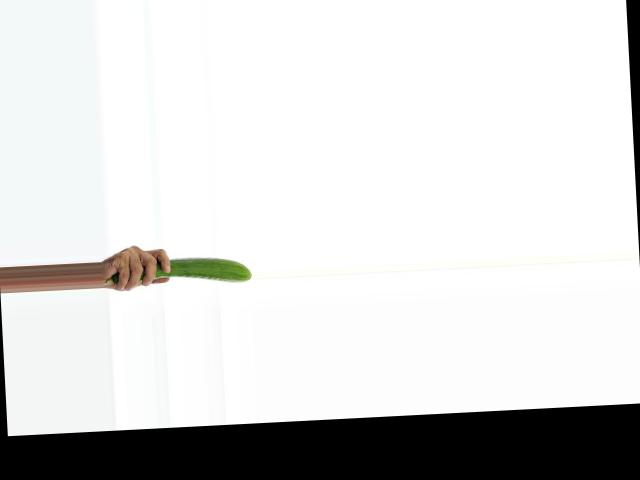cucumber: (105, 254, 253, 289)
